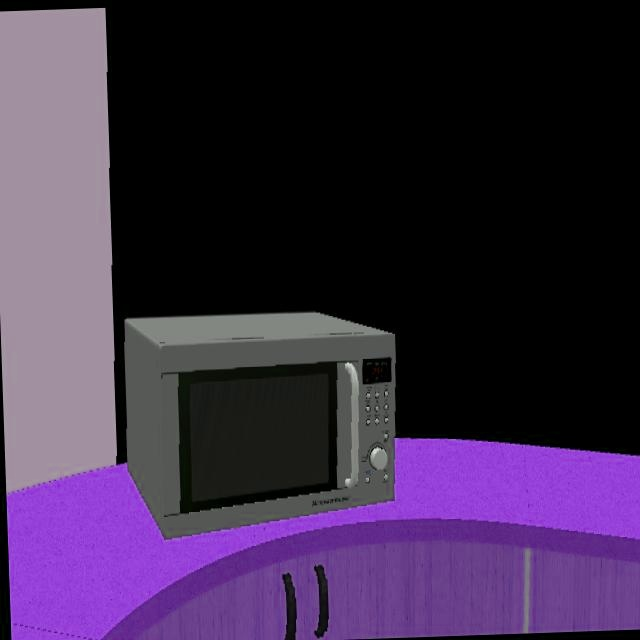cabinet: (98, 441, 640, 640)
countertop: (8, 440, 640, 640)
microwave: (119, 311, 397, 542)
